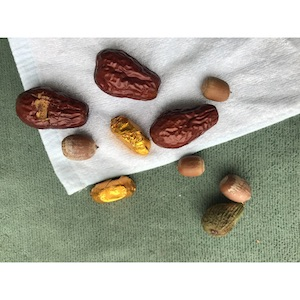date: (91, 46, 163, 102), (13, 86, 91, 131), (147, 101, 220, 149)
fig: (199, 200, 246, 237)
hazelnut: (58, 131, 102, 165), (217, 173, 254, 205), (198, 74, 232, 105), (174, 154, 207, 179)
